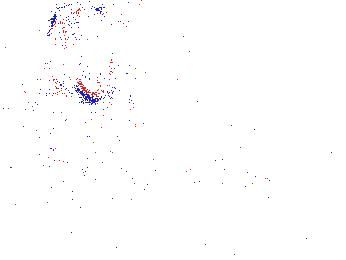moon jellyfish: (46, 6, 117, 114), (102, 19, 190, 83)
